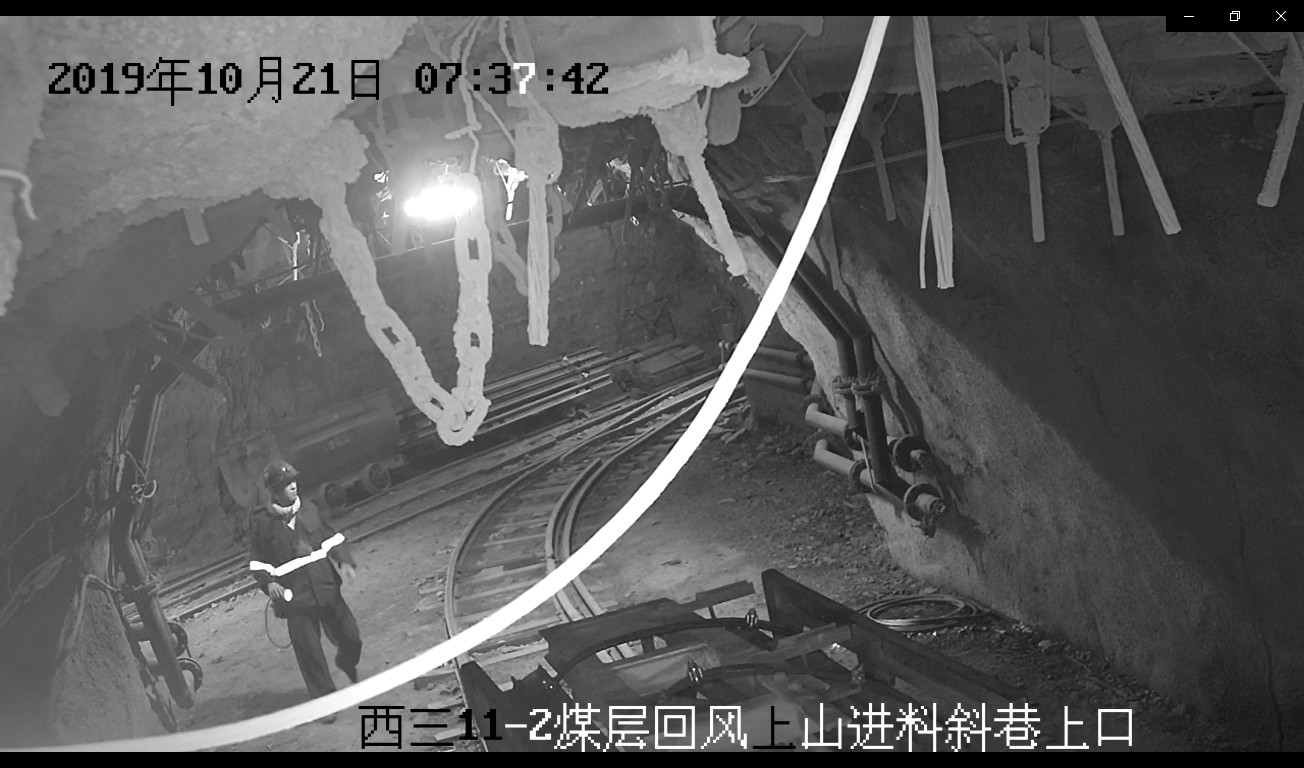helmet: (262, 459, 300, 489)
